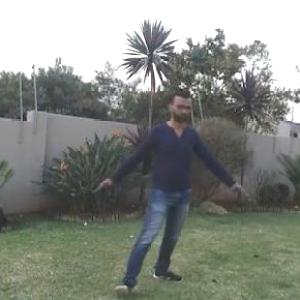land: (82, 80, 255, 299)
